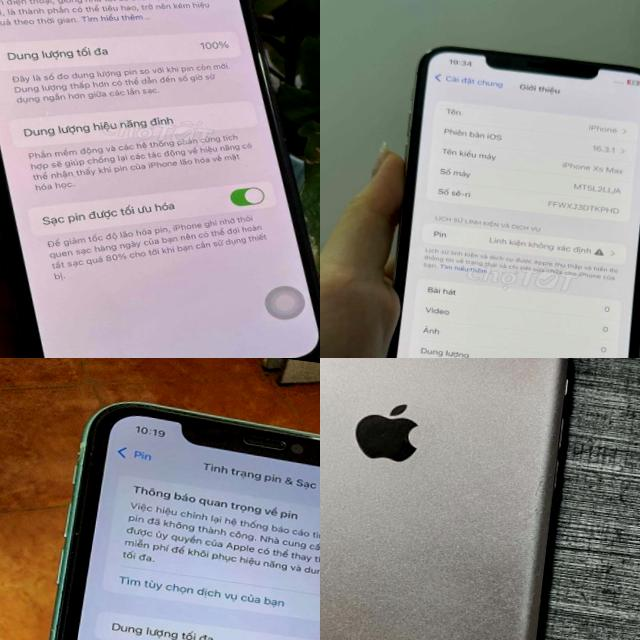scratch: (432, 578, 528, 640), (344, 614, 370, 640)
